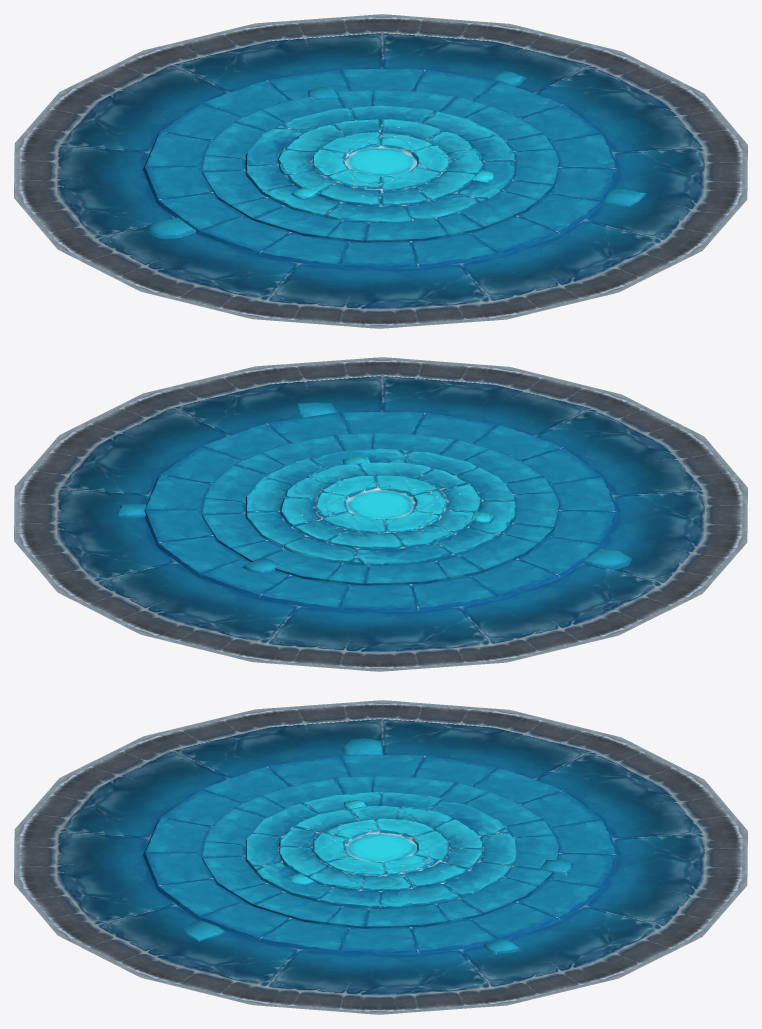
The model's file is BingYingZhong_DiMian_1.FBX.
The picture shows the model from 3 angles, top to bottom: view 1: azimuth 30°, elevation 25°; view 2: azimuth 150°, elevation 25°; view 3: azimuth 270°, elevation 25°; orthographic projection.
Parts seen in each view (by area): view 1: BingYingZhong_Bing_2, BingYingZhong_Di_1; view 2: BingYingZhong_Bing_2, BingYingZhong_Di_1; view 3: BingYingZhong_Bing_2, BingYingZhong_Di_1.
Boxes of the visible parts, x1,y1,x2,y2 form: BingYingZhong_Bing_2: [56, 32, 705, 310]; BingYingZhong_Di_1: [14, 14, 747, 328]; BingYingZhong_Bing_2: [56, 375, 705, 653]; BingYingZhong_Di_1: [14, 357, 747, 671]; BingYingZhong_Bing_2: [56, 718, 705, 996]; BingYingZhong_Di_1: [14, 700, 747, 1014].
Bounding box in the file's own units: 4923 × 85.62 × 4853.
